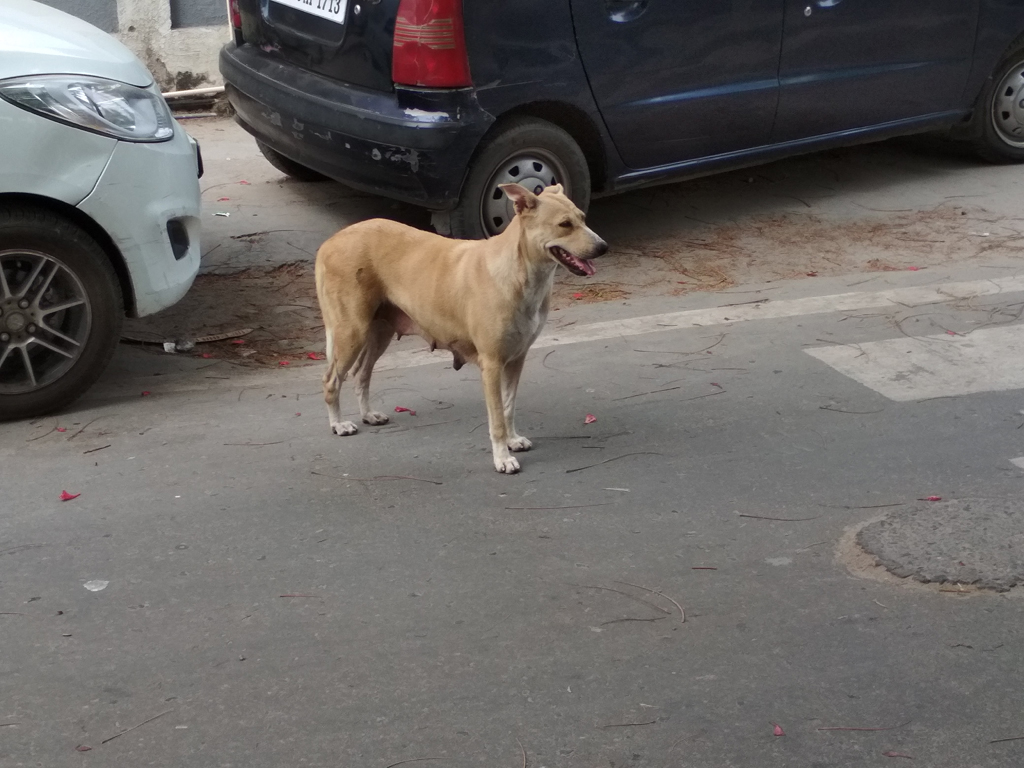dog: (315, 182, 608, 473)
